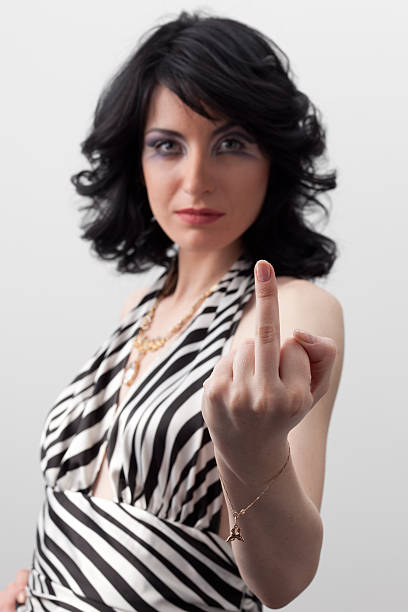insulting_gesture: (199, 259, 335, 458)
